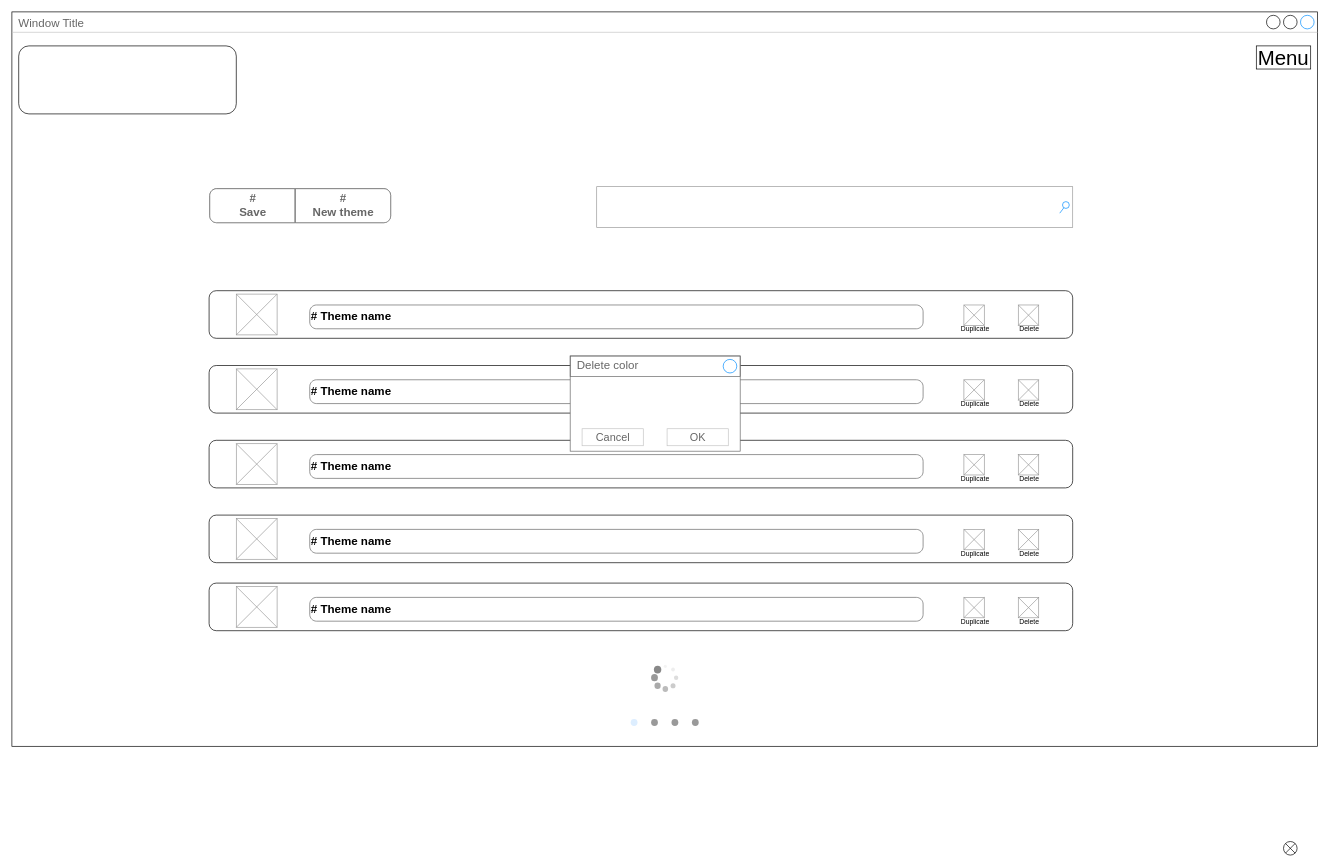
This 1329x867 diagram has some shape labels left out. Each missing label, with the box of its shape:
# Logo: (18, 45, 236, 114)
Search theme: (596, 186, 1073, 227)
Warning ! Are you sure you want to delete this theme ?: (570, 355, 740, 451)
